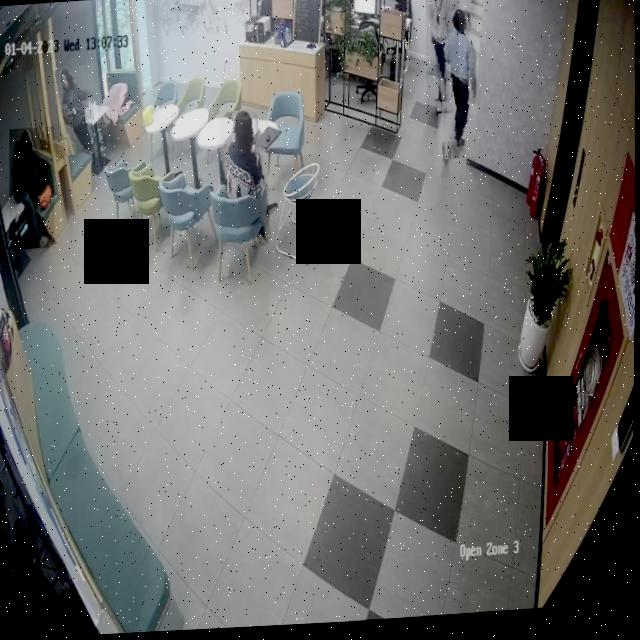person: (218, 110, 270, 249), (437, 13, 479, 164), (8, 126, 56, 250), (423, 0, 460, 119), (58, 65, 95, 156)
